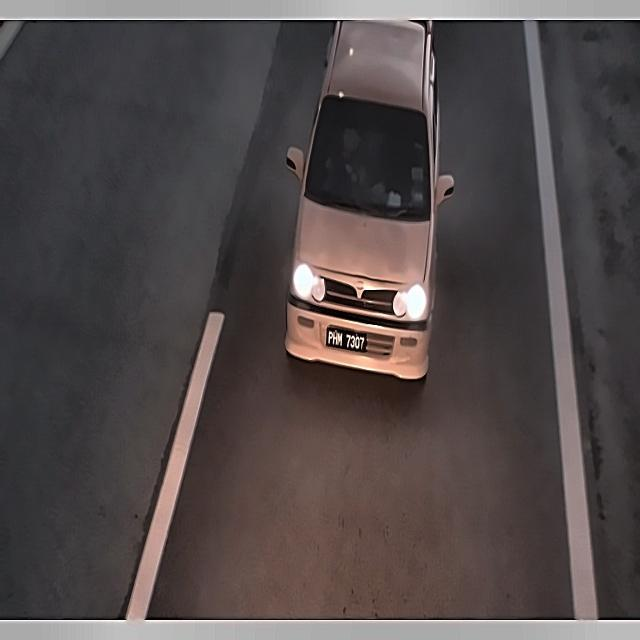car: (322, 322, 369, 357)
